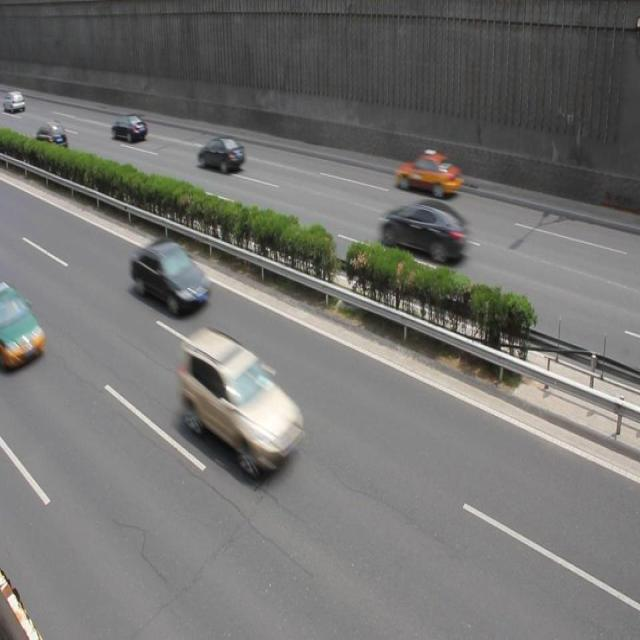car: (179, 326, 306, 479), (379, 195, 468, 265), (130, 241, 211, 317), (1, 286, 45, 372), (396, 147, 462, 201), (198, 134, 245, 175), (38, 119, 69, 152), (111, 113, 146, 142)
